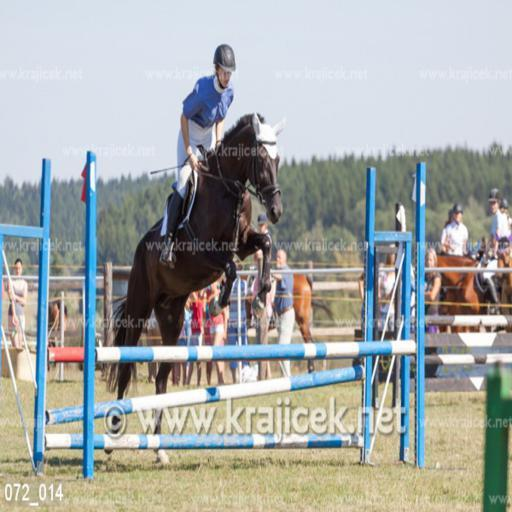horse: (103, 110, 288, 466), (238, 271, 334, 375), (436, 253, 504, 333), (496, 228, 512, 330)
